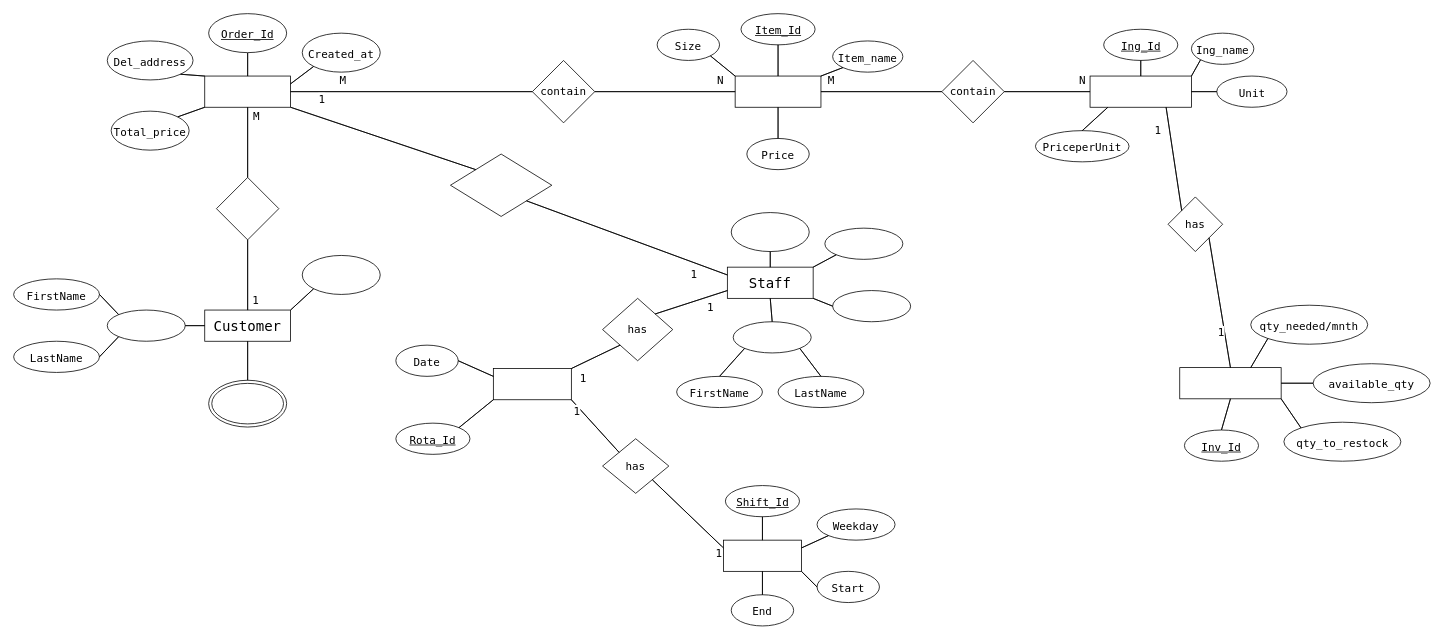
Image size: 1444x640. Some labels were removed from this diagram. The shapes that lost their labels are listed below. From the top down, each one's centre as x and y in pixels, then its label:
At point 247,91: "Order".
At point 777,91: "Item".
At point 1140,91: "Ingredient".
At point 501,184: "assigned_to".
At point 247,208: "make".
At point 769,232: "member_id".
At point 863,243: "hrly_rate".
At point 340,274: "Customer_Id".
At point 145,325: "Cust_name".
At point 871,306: "Position".
At point 771,337: "name".
At point 247,403: "Addresses".
At point 532,384: "Rota".
At point 1230,383: "Inventory".
At point 762,555: "Shift".
